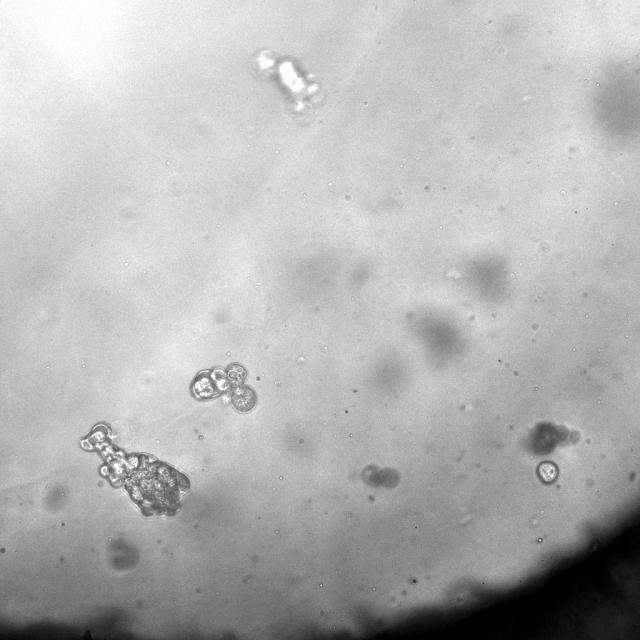organoid: (81, 423, 190, 516), (252, 49, 321, 116), (190, 362, 257, 414), (522, 421, 580, 455), (108, 537, 139, 570), (361, 464, 399, 488), (536, 460, 559, 484)
